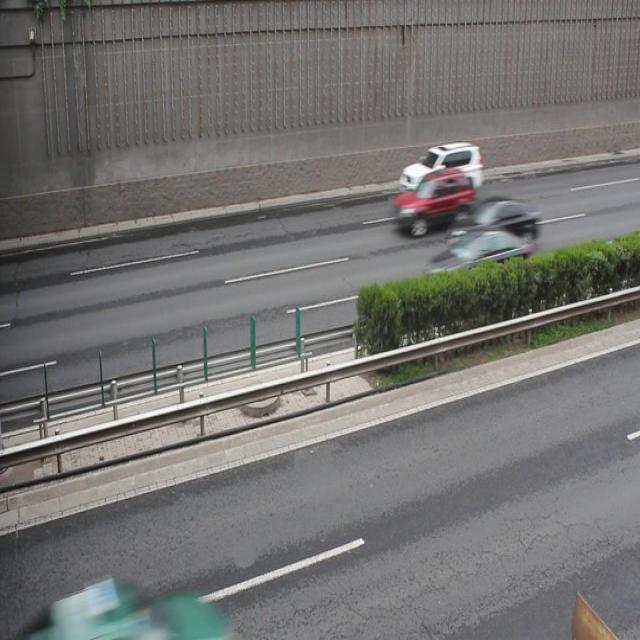car: (424, 228, 528, 297), (399, 141, 482, 202), (447, 195, 539, 249), (394, 172, 469, 236)
